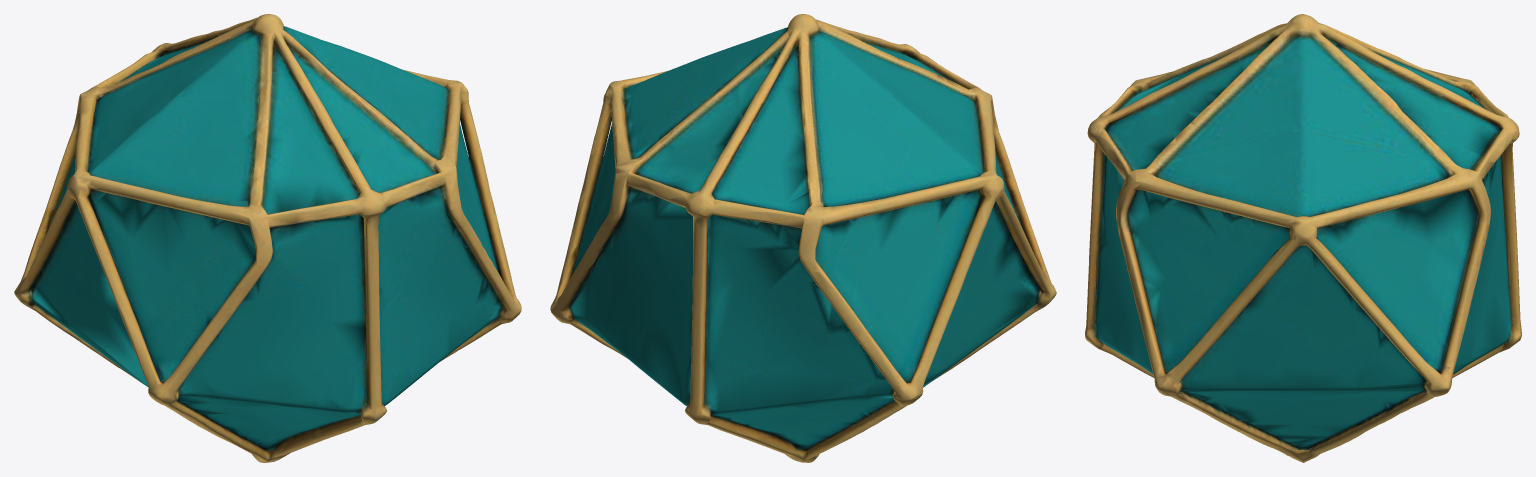
3 renders of one model, left to right at view 1: azimuth 30°, elevation 25°; view 2: azimuth 150°, elevation 25°; view 3: azimuth 270°, elevation 25°, orthographic.
Visible parts, largest first — view 1: tripo_node_d2bf8990-ef09-4bbb-9938-78f76e9c488a; view 2: tripo_node_d2bf8990-ef09-4bbb-9938-78f76e9c488a; view 3: tripo_node_d2bf8990-ef09-4bbb-9938-78f76e9c488a.
Part boxes in pixels (box(x1,y1,x2,y2)): tripo_node_d2bf8990-ef09-4bbb-9938-78f76e9c488a: box(14, 14, 521, 462); tripo_node_d2bf8990-ef09-4bbb-9938-78f76e9c488a: box(550, 14, 1056, 462); tripo_node_d2bf8990-ef09-4bbb-9938-78f76e9c488a: box(1085, 14, 1521, 462).
Size of the model in its own units: 0.928 by 0.9999 by 0.8899.
1 material, 1 textured.
